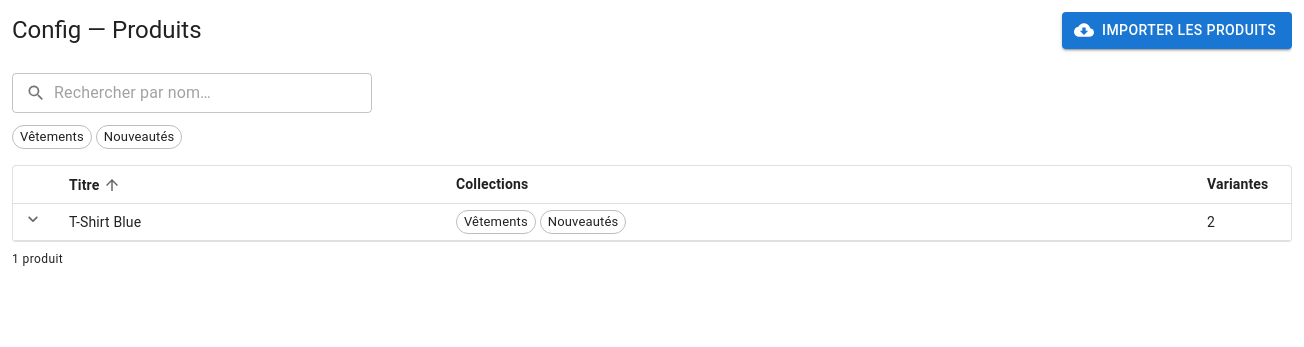
Test: ConfigProductsPage › shows success alert after successful import
Expected: the text "T-Shirt Blue" is shown, [53, 203, 440, 240]
Click the button "Importer les produits".
click(1177, 30)  # box [1062, 12, 1292, 48]
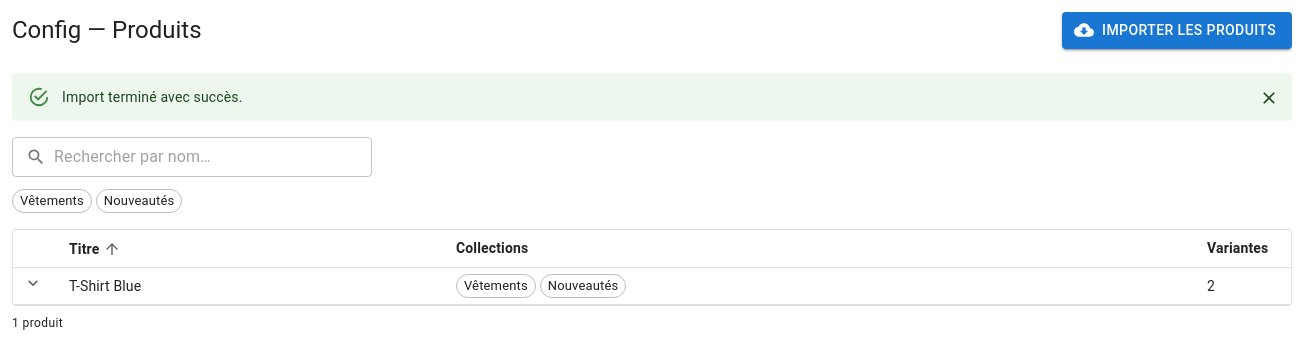
Expected: the text "Import terminé avec succès." is shown, [62, 88, 242, 104]
